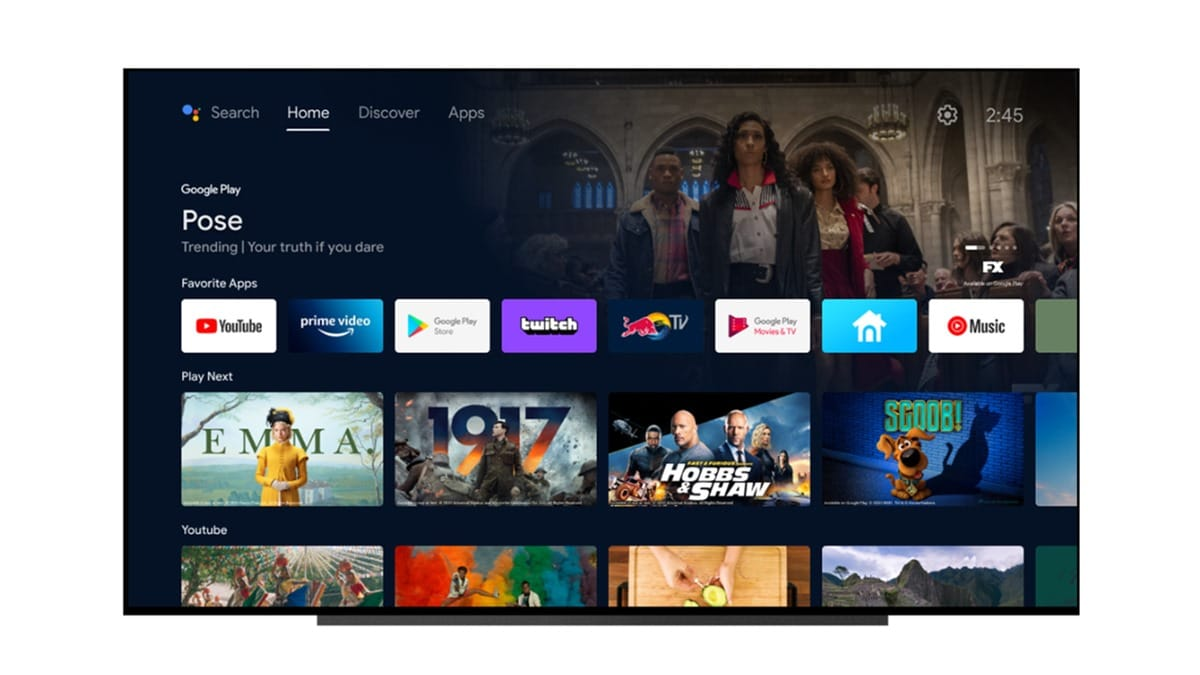tv: (87, 62, 1098, 675)
